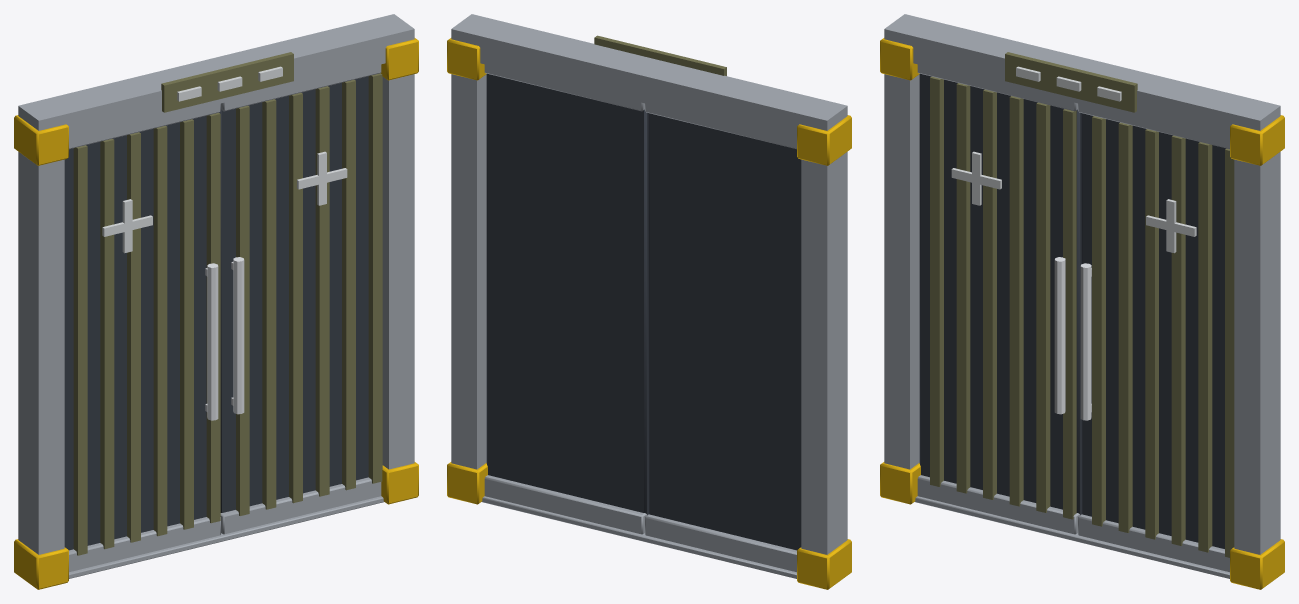
File: door_cargo.glb
3 views of the same model, side by side, from view 1: azimuth 30°, elevation 25°; view 2: azimuth 150°, elevation 25°; view 3: azimuth 330°, elevation 25° (orthographic).
Parts seen in each view (by area): view 1: leaf_r, leaf_l, body; view 2: leaf_r, leaf_l, body; view 3: leaf_l, leaf_r, body.
Boxes of the visible parts, x1,y1,x2,y2 form: leaf_r: (219, 64, 382, 534); leaf_l: (64, 103, 220, 572); body: (14, 14, 418, 589); leaf_r: (484, 64, 648, 534); leaf_l: (645, 103, 801, 572); body: (447, 14, 851, 589); leaf_l: (917, 64, 1081, 534); leaf_r: (1078, 103, 1234, 572); body: (880, 14, 1284, 589).
Bounding box in the file's own units: 2.36 × 2.8 × 0.285.
